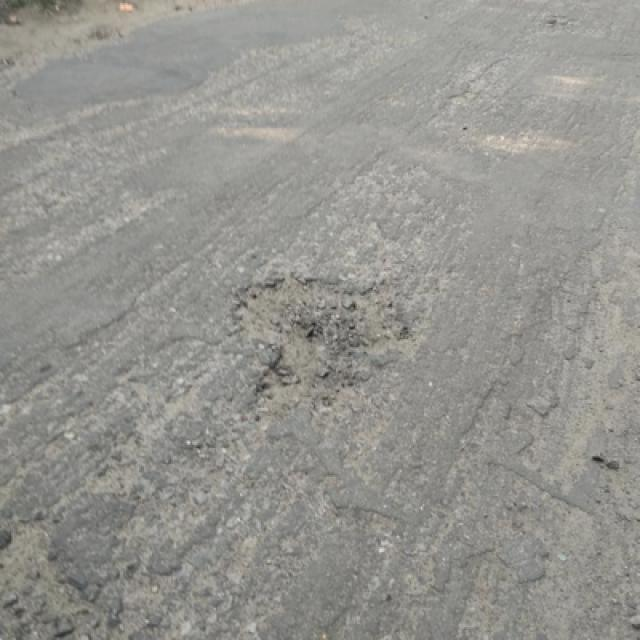Pothole: (229, 267, 413, 419)
